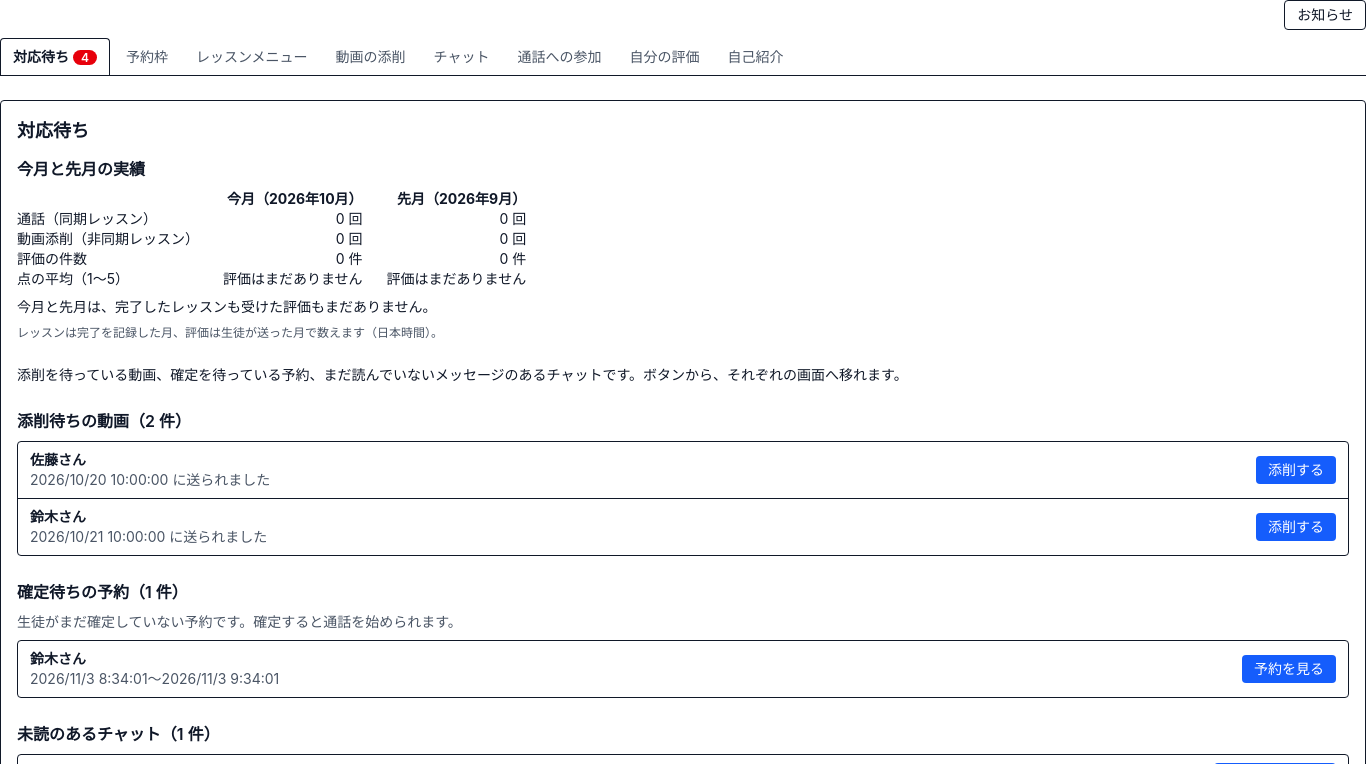
Test: コーチの対応待ち › 添削待ちの「添削する」で動画の添削へ移り、その動画の添削の欄を開く
This screenshot has width=1366, height=764.
Click the button "添削する" in the row of "2026/10/21 10:00:00" at (1296, 527), box [1256,513,1336,541]
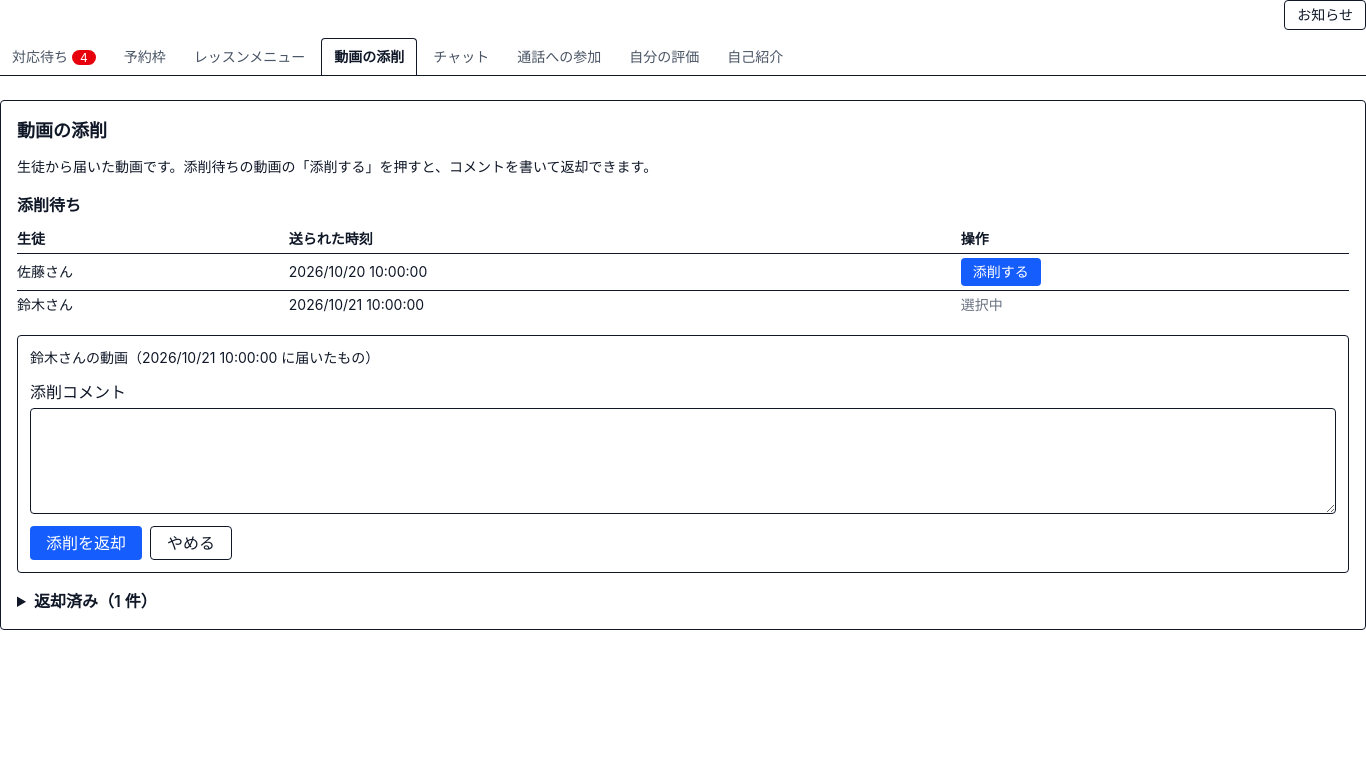
Expected: the form named "添削を書く" shows "鈴木さん", [30,349,86,366]
Expected: the table named "添削待ち" shows "選択中", [961,296,1003,313]
